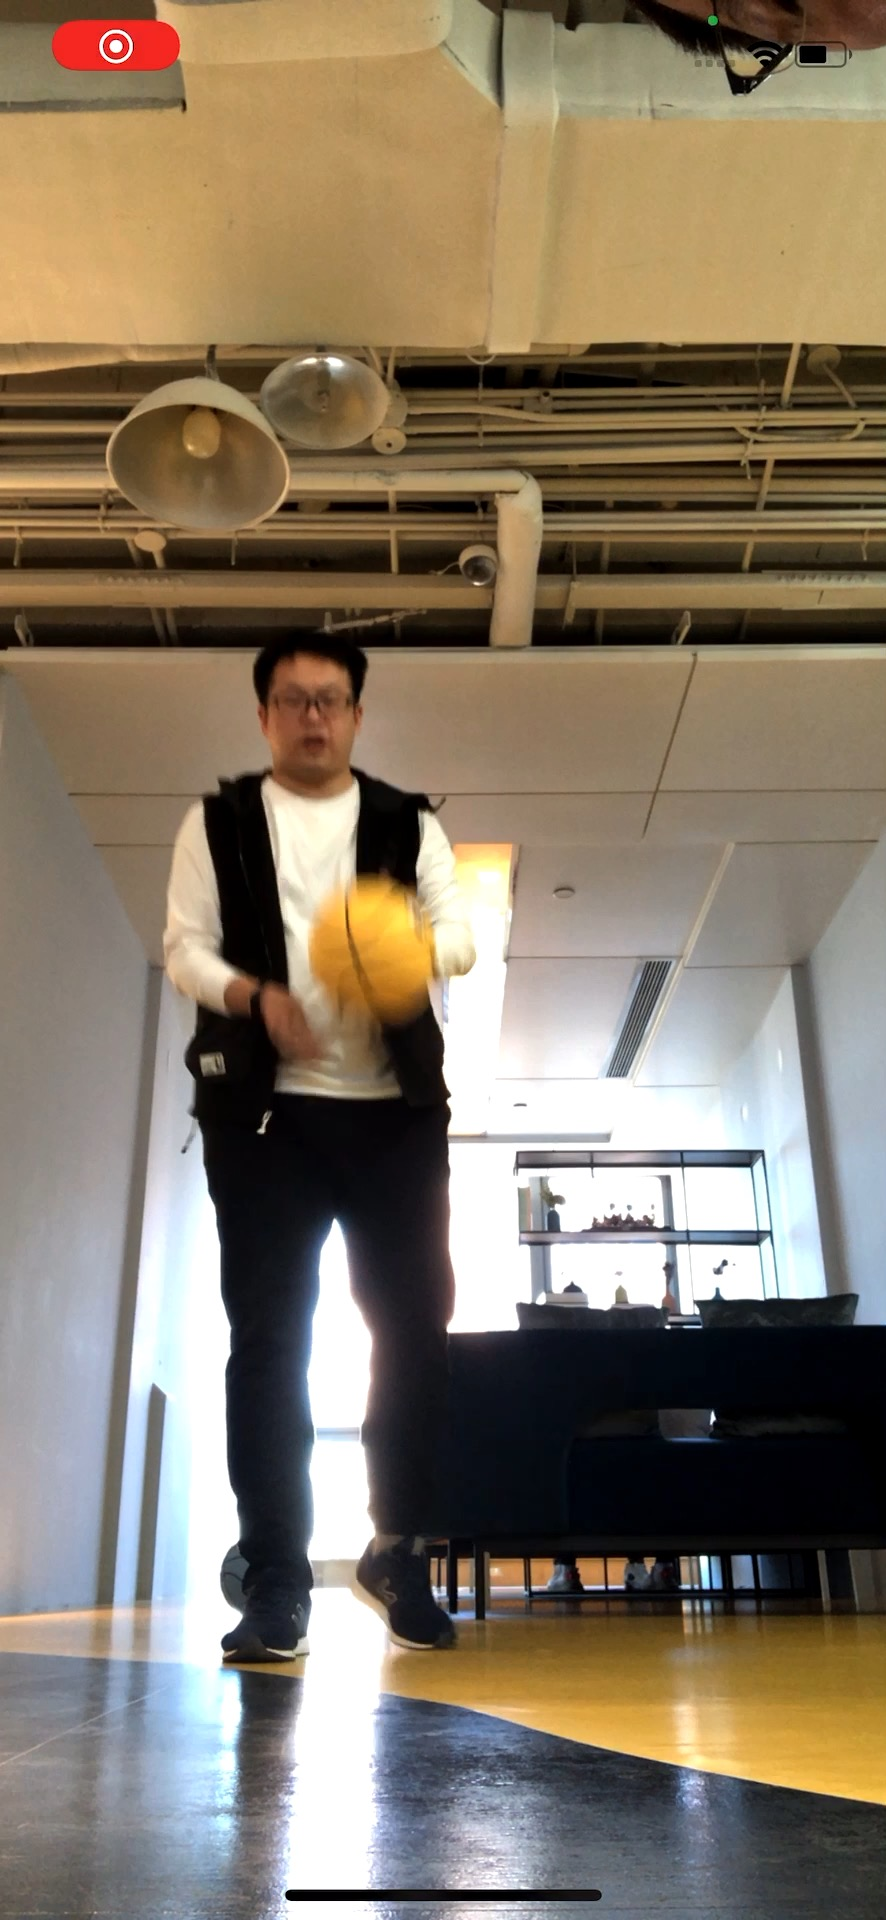ball: (308, 880, 443, 1016)
